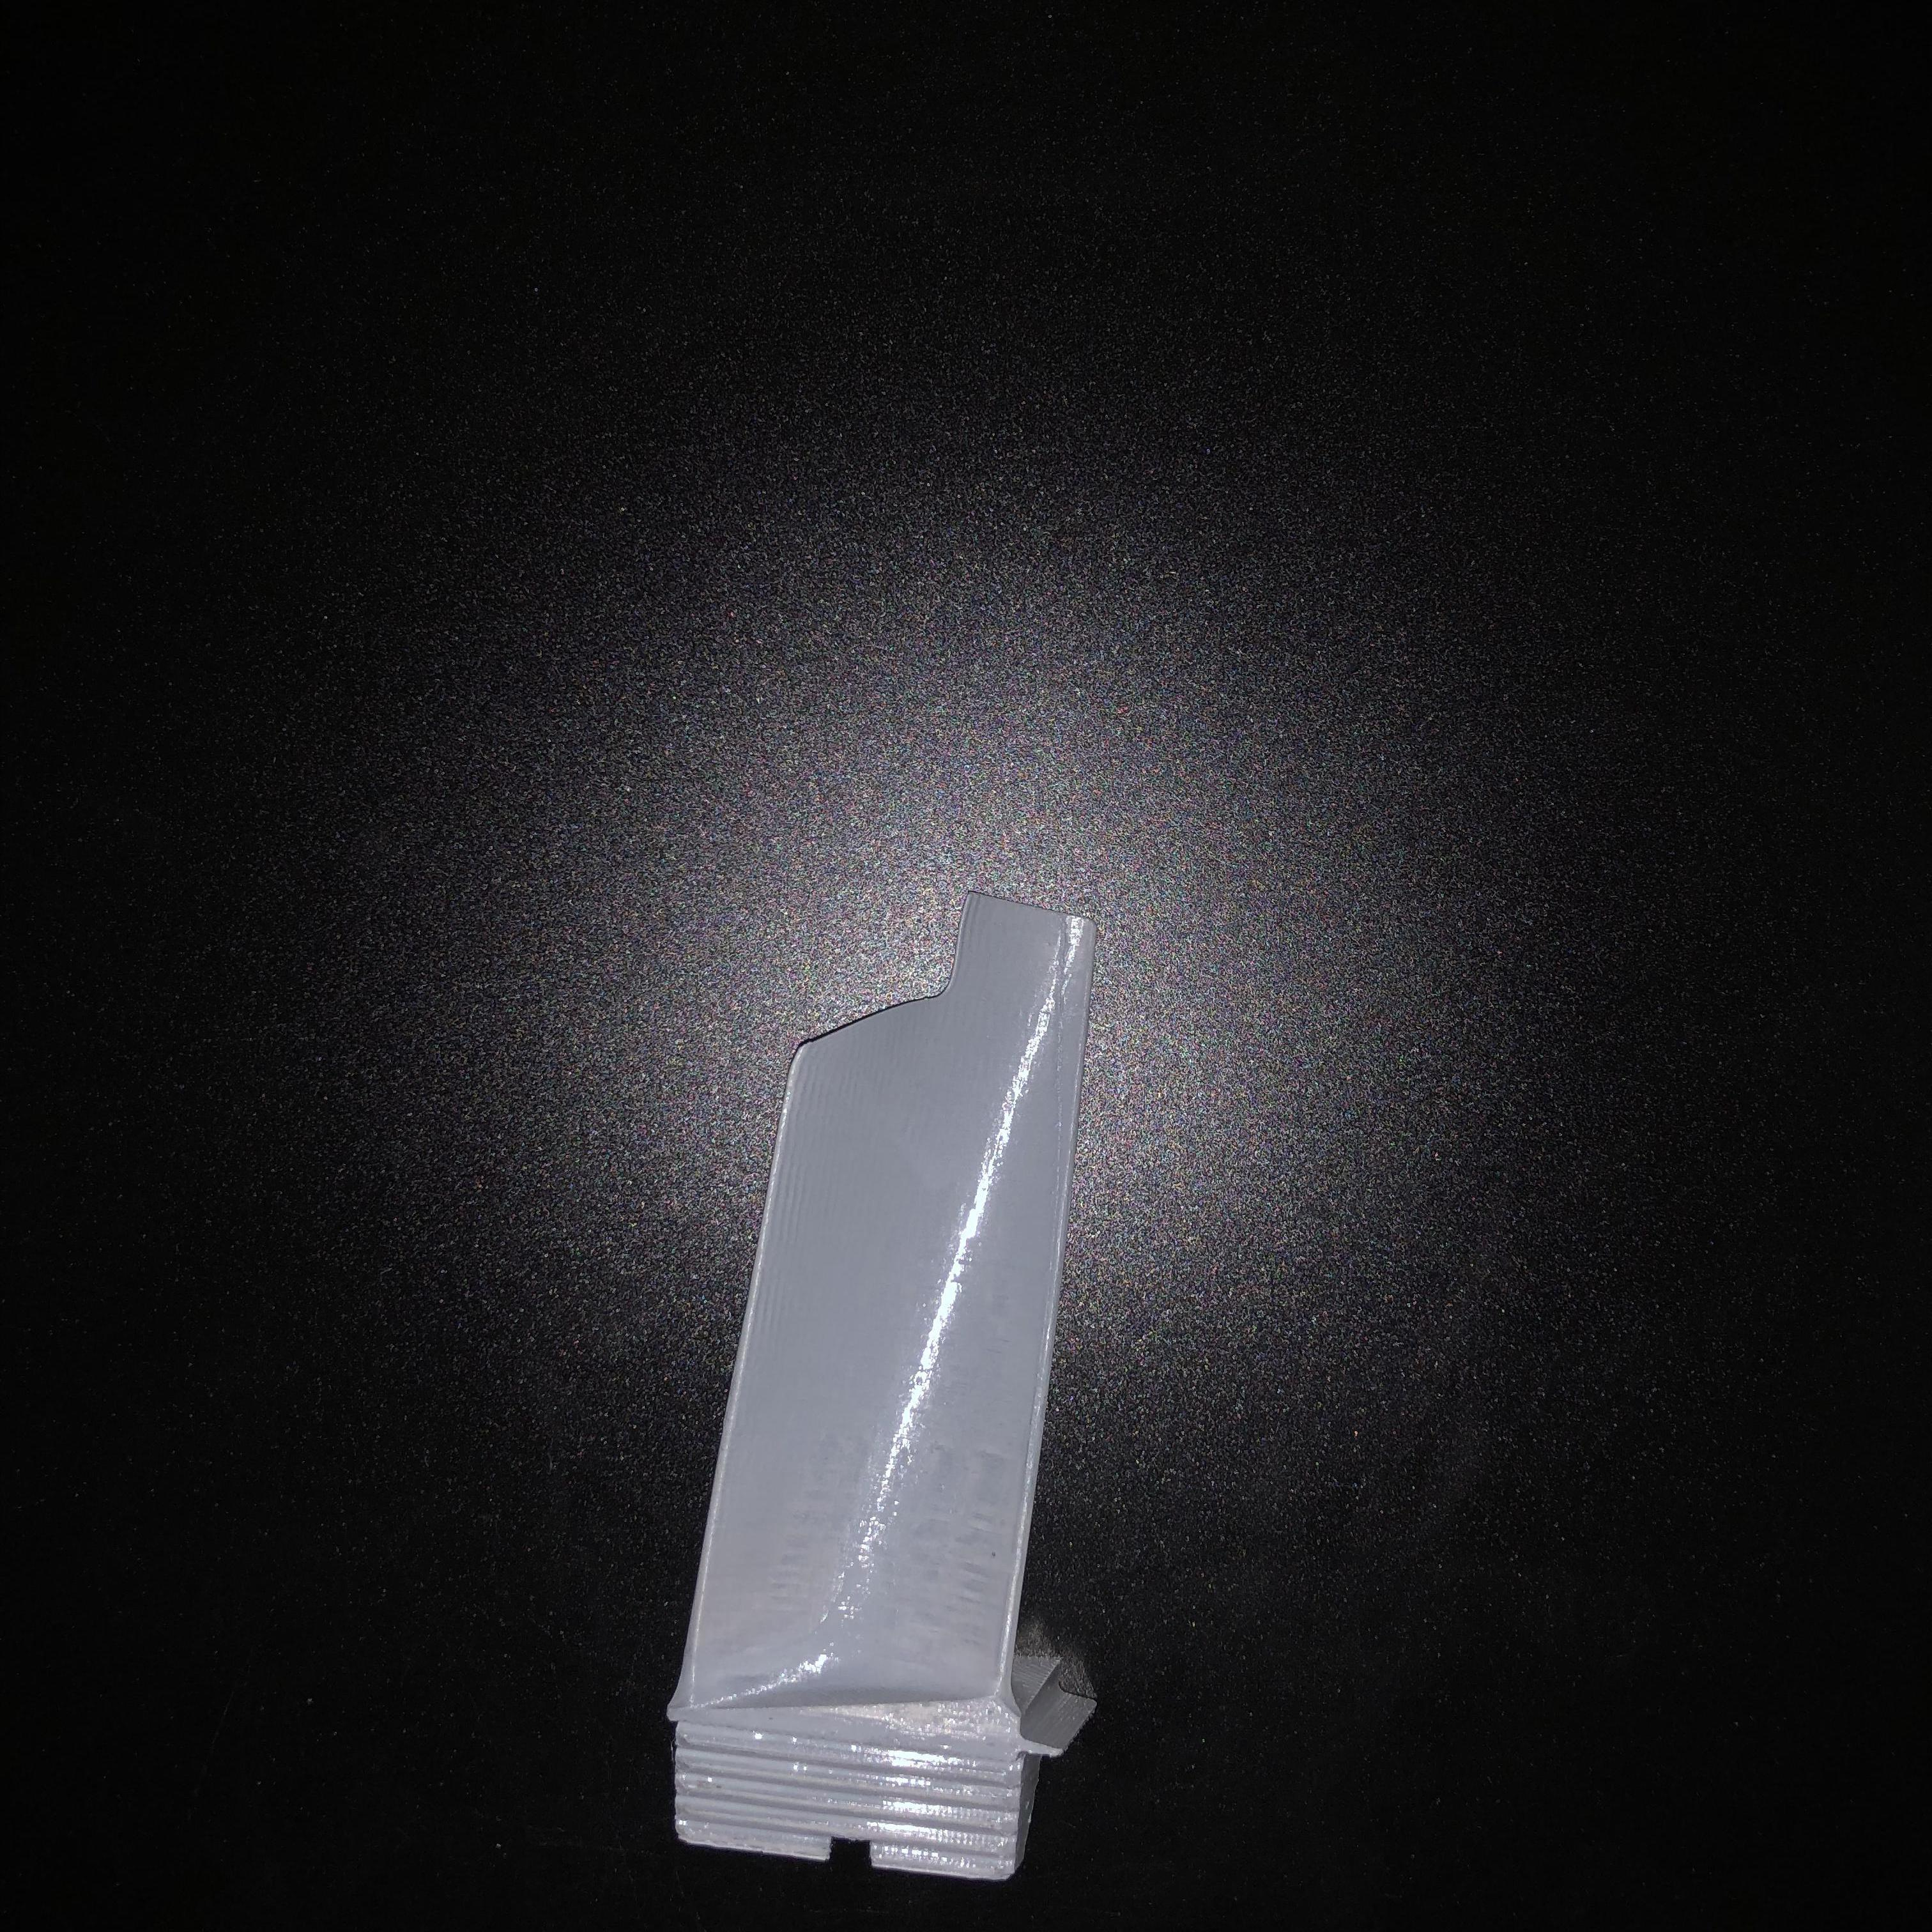fracture: (814, 927, 1033, 1053)
